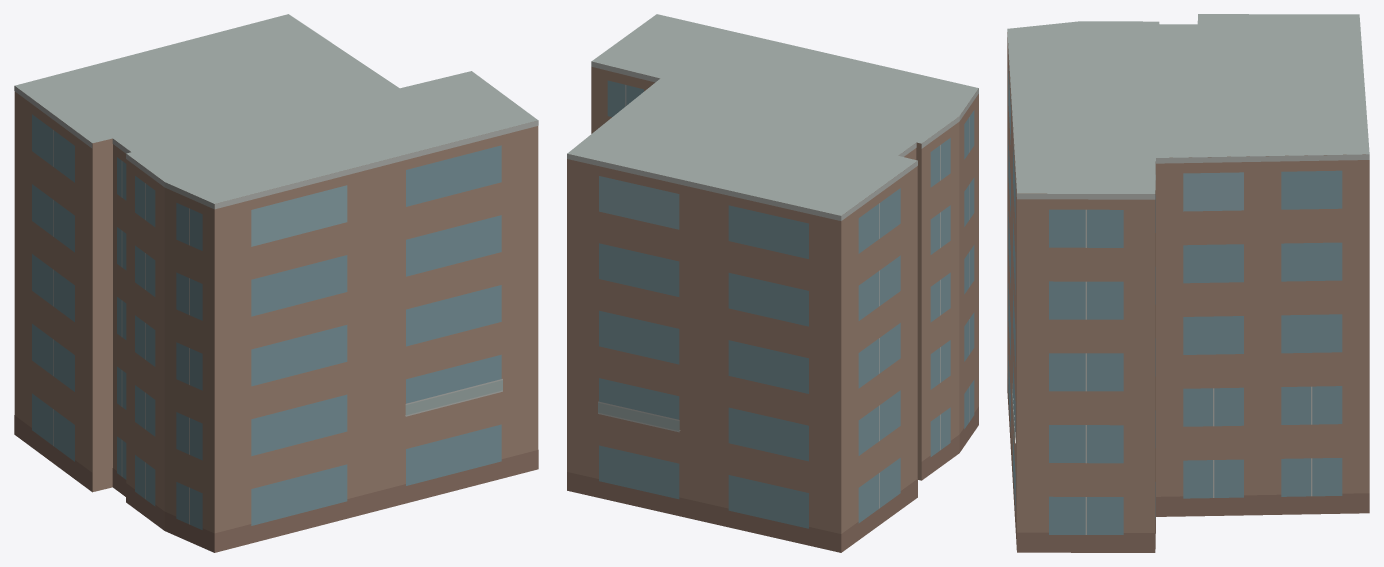
The model's file is survey-upis-32740645.glb.
The picture shows the model from 3 angles, left to right: view 1: azimuth 30°, elevation 25°; view 2: azimuth 150°, elevation 25°; view 3: azimuth 270°, elevation 25°; orthographic projection. The views are drawn at different scales.
Visible parts, largest first — view 1: survey-upis-32740645.tmp; view 2: survey-upis-32740645.tmp; view 3: survey-upis-32740645.tmp.
Part boxes in pixels (<box>): survey-upis-32740645.tmp: <box>14,14,538,552</box>; survey-upis-32740645.tmp: <box>567,14,978,552</box>; survey-upis-32740645.tmp: <box>1007,14,1369,552</box>.
Bounding box in the file's own units: 16.79 × 15.6 × 14.29.
